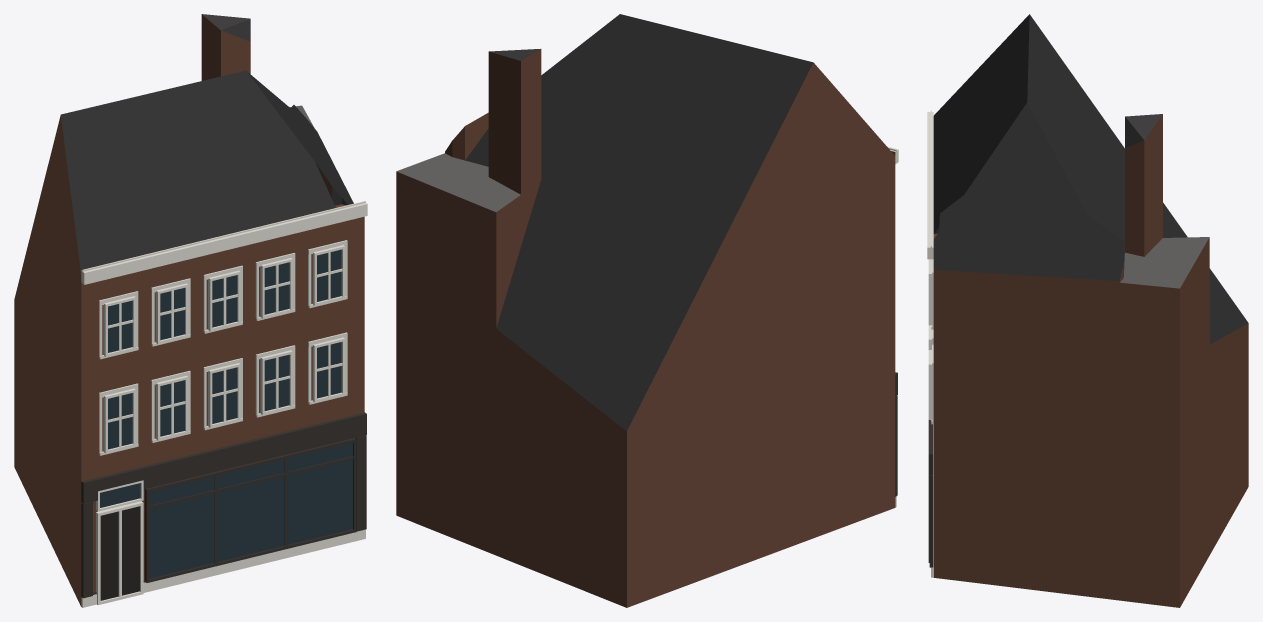
The picture shows the model from 3 angles, left to right: view 1: azimuth 30°, elevation 25°; view 2: azimuth 150°, elevation 25°; view 3: azimuth 270°, elevation 25°; orthographic projection. The views are drawn at different scales.
Visible parts, largest first — view 1: spec-0363100012182638; view 2: spec-0363100012182638; view 3: spec-0363100012182638.
Boxes of the visible parts, box(x1,y1,x2,y2) form: spec-0363100012182638: box(14, 14, 367, 607); spec-0363100012182638: box(396, 14, 898, 607); spec-0363100012182638: box(927, 14, 1248, 607).
Size of the model in its own units: 10.68 by 13.26 by 8.74.
